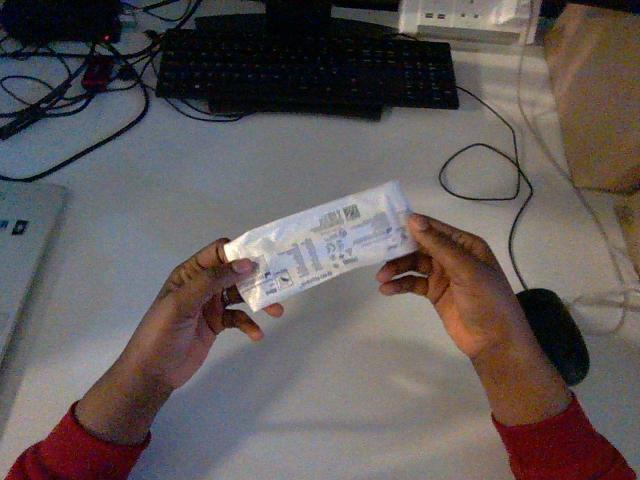syringe: (224, 182, 416, 311)
